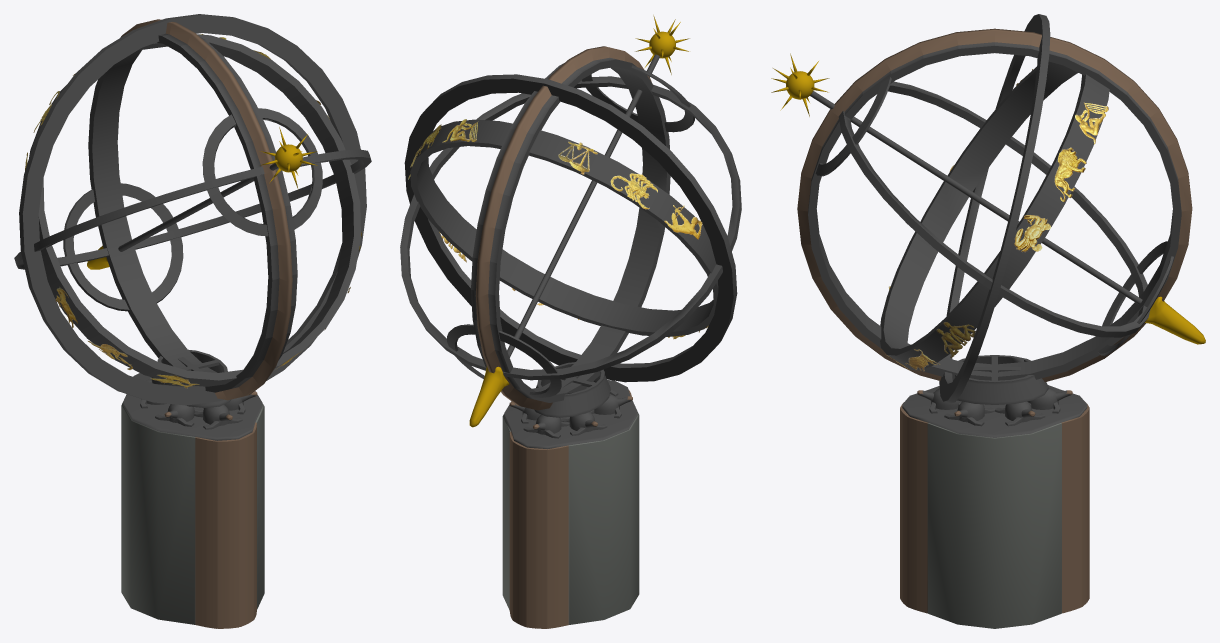
The model's file is SundialRemastered.fbx.
The picture shows the model from 3 angles, left to right: view 1: azimuth 30°, elevation 25°; view 2: azimuth 150°, elevation 25°; view 3: azimuth 270°, elevation 25°; orthographic projection. The views are drawn at different scales.
Visible parts, largest first — view 1: Pedestal, LargeSupportRing, AngledSupportRing, ZodiacRing, SupportRing, SmallRing1, SmallRing2, CenterRod, Base, SpikeBall, Turtle4, Turtle5; view 2: Pedestal, LargeSupportRing, ZodiacRing, AngledSupportRing, SupportRing, Base, CenterRod, SmallRing2, SmallRing1, Fleur, SpikeBall, Scorpio (+5 smaller); view 3: Pedestal, LargeSupportRing, ZodiacRing, SupportRing, AngledSupportRing, Base, CenterRod, SmallRing2, Fleur, SmallRing1, SpikeBall, Leo (+5 smaller).
Boxes of the visible parts, left/top/right/bottom form: Pedestal: left=121, top=373, right=264, bottom=628; LargeSupportRing: left=88, top=19, right=297, bottom=400; AngledSupportRing: left=19, top=14, right=366, bottom=405; ZodiacRing: left=29, top=34, right=360, bottom=386; SupportRing: left=14, top=149, right=371, bottom=269; SmallRing1: left=202, top=108, right=322, bottom=236; SmallRing2: left=63, top=183, right=183, bottom=311; CenterRod: left=118, top=163, right=278, bottom=251; Base: left=151, top=349, right=231, bottom=407; SpikeBall: left=260, top=127, right=317, bottom=189; Turtle4: left=194, top=404, right=242, bottom=429; Turtle5: left=155, top=404, right=203, bottom=426; Pedestal: left=502, top=380, right=639, bottom=628; LargeSupportRing: left=471, top=46, right=670, bottom=410; ZodiacRing: left=410, top=119, right=718, bottom=336; AngledSupportRing: left=404, top=74, right=737, bottom=382; SupportRing: left=400, top=76, right=741, bottom=380; Base: left=534, top=362, right=610, bottom=417; CenterRod: left=507, top=54, right=659, bottom=357; SmallRing2: left=447, top=324, right=561, bottom=397; SmallRing1: left=581, top=65, right=694, bottom=132; Fleur: left=469, top=366, right=509, bottom=427; SpikeBall: left=635, top=15, right=689, bottom=74; Scorpio: left=610, top=173, right=657, bottom=209; Pedestal: left=900, top=385, right=1089, bottom=628; LargeSupportRing: left=797, top=28, right=1192, bottom=382; ZodiacRing: left=880, top=61, right=1109, bottom=370; SupportRing: left=838, top=81, right=1150, bottom=337; AngledSupportRing: left=939, top=14, right=1050, bottom=403; Base: left=952, top=355, right=1048, bottom=404; CenterRod: left=810, top=91, right=1142, bottom=304; SmallRing2: left=1098, top=241, right=1173, bottom=355; Fleur: left=1145, top=296, right=1205, bottom=344; SmallRing1: left=815, top=77, right=891, bottom=176; SpikeBall: left=771, top=53, right=829, bottom=116; Leo: left=1054, top=147, right=1086, bottom=201.
Bounding box in the file's own units: 455 × 715 × 497.
